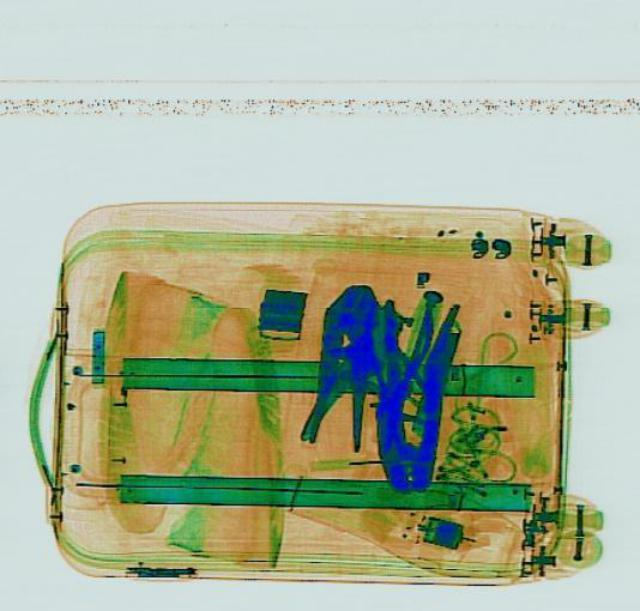Pliers: (365, 297, 461, 494), (361, 295, 435, 440)
